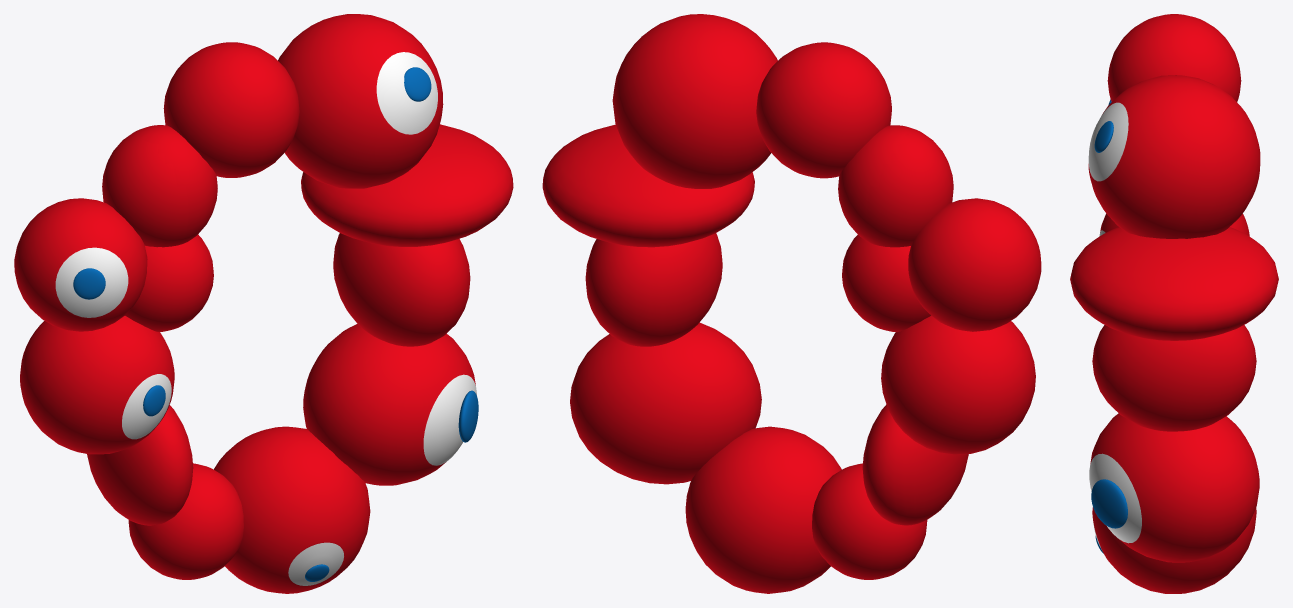
Rendered from EXPO2025_eye.glb.
3 renders of one model, left to right at view 1: azimuth 30°, elevation 25°; view 2: azimuth 150°, elevation 25°; view 3: azimuth 270°, elevation 25°, orthographic.
Visible parts, largest first — view 1: 球.002, 球.011, 球.010, 球.007, 球.001, 球, 球.006, 球.012, 球.009, 球.008, 球.003, 球.005 (+4 smaller); view 2: 球.011, 球.002, 球.010, 球.007, 球.001, 球.006, 球, 球.012, 球.009, 球.008, 球.003, 球.005 (+1 smaller); view 3: 球.002, 球.001, 球.011, 球.012, 球, 球.010, Hitomi_Blue_2, 球.007, Hitomi_Blue_1.
Part boxes in pixels (box(x1,y1,x2,y2)): 球.002: box(278, 14, 443, 188); 球.011: box(303, 324, 476, 485); 球.010: box(214, 426, 370, 593); 球.007: box(20, 316, 174, 454); 球.001: box(301, 124, 513, 246); 球: box(163, 42, 299, 177); 球.006: box(14, 198, 147, 331); 球.012: box(333, 233, 470, 346); 球.009: box(128, 463, 243, 579); 球.008: box(87, 405, 193, 525); 球.003: box(102, 131, 194, 247); 球.005: box(125, 234, 213, 331); 球.011: box(570, 322, 761, 484); 球.002: box(612, 14, 777, 188); 球.010: box(685, 426, 841, 593); 球.007: box(881, 315, 1035, 454); 球.001: box(542, 124, 754, 247); 球.006: box(908, 198, 1041, 331); 球: box(756, 42, 891, 178); 球.012: box(585, 233, 722, 346); 球.009: box(812, 463, 927, 579); 球.008: box(862, 404, 968, 525); 球.003: box(861, 131, 953, 247); 球.005: box(842, 235, 930, 332); 球.002: box(1088, 75, 1260, 238); 球.001: box(1070, 227, 1278, 340); 球.011: box(1089, 413, 1259, 562); 球.012: box(1092, 325, 1256, 431); 球: box(1107, 14, 1241, 101); 球.010: box(1092, 507, 1256, 593); Hitomi_Blue_2: box(1091, 479, 1127, 528); 球.007: box(1099, 213, 1249, 236); Hitomi_Blue_1: box(1094, 121, 1113, 152).
Bounding box in the file's own units: 1.01 × 1.11 × 0.3903.
